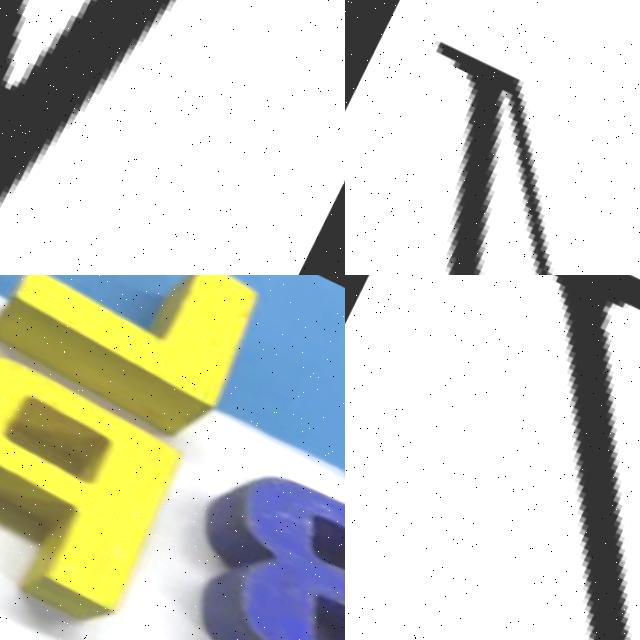B: (158, 436, 345, 640)
L: (0, 275, 299, 454)
M: (345, 32, 640, 275)
R: (0, 319, 226, 640)
V: (345, 275, 640, 640), (0, 0, 345, 275)
